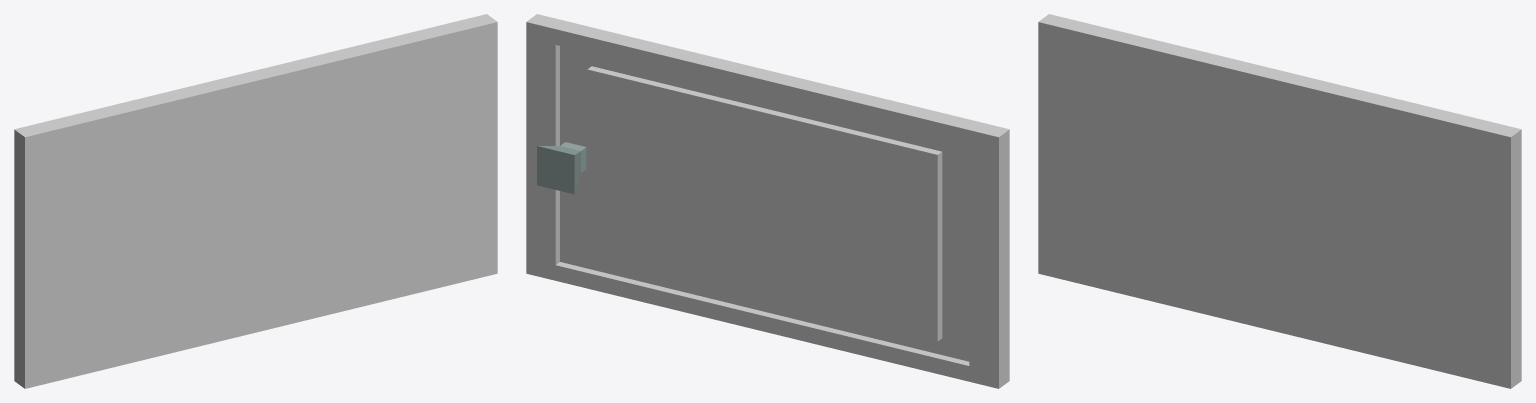
File: SmallerKitchenWallCabinetDoor.fbx
The picture shows the model from 3 angles, left to right: view 1: azimuth 30°, elevation 25°; view 2: azimuth 150°, elevation 25°; view 3: azimuth 330°, elevation 25°; orthographic projection.
Parts seen in each view (by area): view 1: Cube.038; view 2: Cube.038; view 3: Cube.038.
Part boxes in pixels (left/top/right/bottom): Cube.038: left=14, top=14, right=497, bottom=388; Cube.038: left=526, top=14, right=1009, bottom=388; Cube.038: left=1038, top=14, right=1521, bottom=388.
Size of the model in its own units: 75.38 by 38.35 by 7.31.
